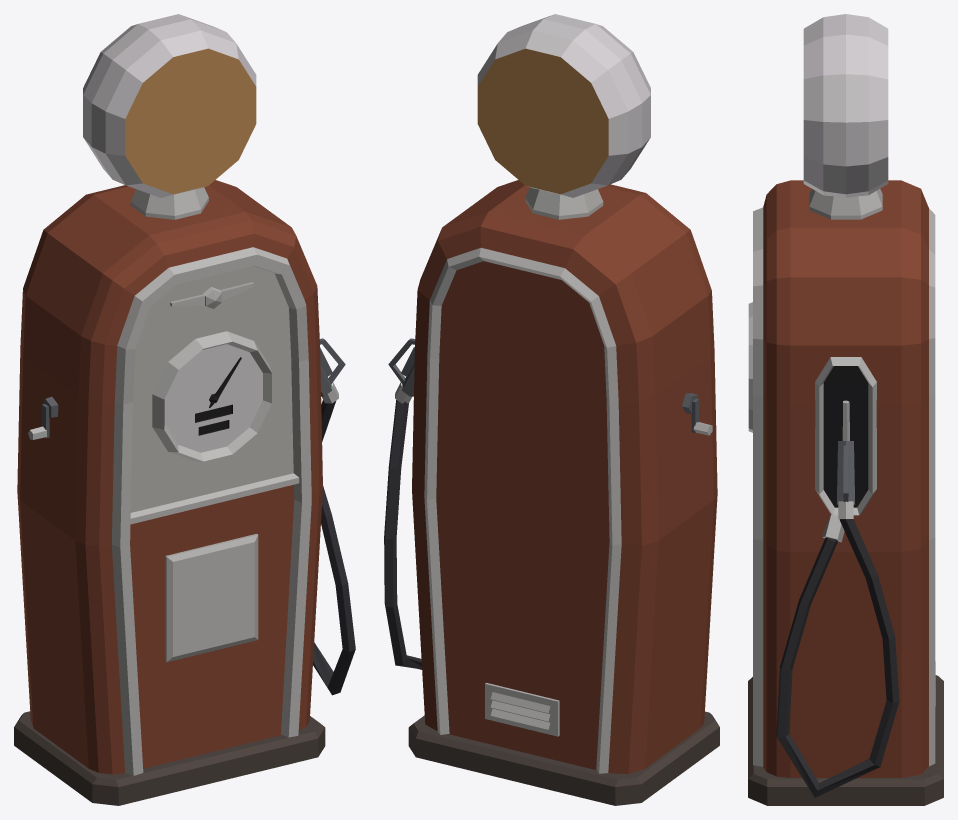
Rendered from globe-gas-pump-b8e80d.glb.
3 renders of one model, left to right at view 1: azimuth 30°, elevation 25°; view 2: azimuth 150°, elevation 25°; view 3: azimuth 270°, elevation 25°, orthographic.
Parts seen in each view (by area): view 1: pump, crank-mesh; view 2: pump, crank-mesh; view 3: pump.
Part boxes in pixels (bbox=[...]): pump: bbox=[14, 14, 355, 805]; crank-mesh: bbox=[28, 396, 58, 439]; pump: bbox=[384, 14, 719, 805]; crank-mesh: bbox=[682, 393, 712, 435]; pump: bbox=[748, 14, 943, 805].
Bounding box in the file's own units: 1.04 × 2.26 × 0.554.
